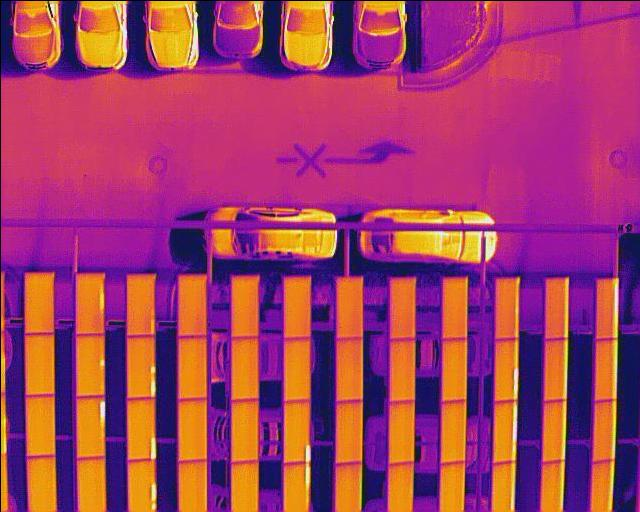Cell: (75, 332, 105, 396)
No-Anomaly: (177, 273, 208, 335), (24, 271, 55, 332), (178, 335, 208, 398), (127, 272, 156, 337), (334, 399, 363, 464), (230, 336, 259, 400), (334, 336, 362, 402), (283, 336, 311, 402), (25, 334, 55, 395), (230, 273, 259, 336), (178, 398, 207, 461), (282, 275, 310, 338), (388, 336, 415, 401), (335, 276, 363, 338), (27, 395, 55, 456), (388, 399, 415, 462), (591, 338, 618, 401), (75, 456, 105, 512), (231, 400, 258, 462), (389, 275, 415, 338), (440, 399, 466, 462), (542, 338, 568, 401), (27, 457, 56, 512), (441, 275, 466, 338), (541, 400, 566, 463), (591, 398, 616, 461), (493, 276, 518, 339), (442, 337, 466, 401), (544, 277, 568, 340), (178, 460, 207, 512), (230, 461, 258, 512), (440, 461, 466, 512), (387, 463, 414, 512), (334, 463, 361, 512), (540, 460, 564, 512), (591, 460, 614, 512), (493, 462, 516, 512)
Unclassified: (125, 397, 155, 459), (76, 395, 106, 457), (283, 401, 312, 463), (76, 273, 105, 334), (126, 334, 154, 397), (594, 277, 619, 340), (127, 459, 156, 512), (493, 398, 516, 463), (494, 337, 517, 402), (282, 462, 310, 512)
